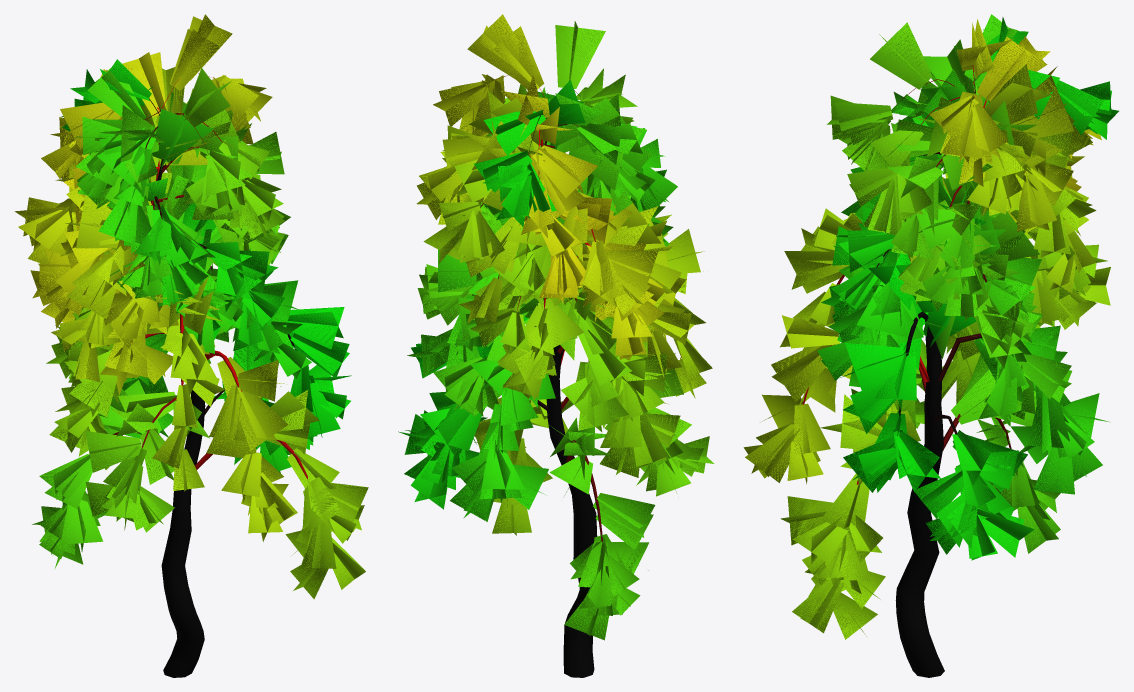
File: birch 1 lod0.FBX
3 renders of one model, left to right at view 1: azimuth 30°, elevation 25°; view 2: azimuth 150°, elevation 25°; view 3: azimuth 270°, elevation 25°, orthographic. The views are drawn at different scales.
Parts seen in each view (by area): view 1: birch1_lod0; view 2: birch1_lod0; view 3: birch1_lod0.
Part boxes in pixels (box(x1,y1,x2,y2)): birch1_lod0: box(14, 14, 368, 677); birch1_lod0: box(398, 14, 714, 677); birch1_lod0: box(743, 14, 1118, 677).
Size of the model in its own units: 75380 by 163074 by 81878.
